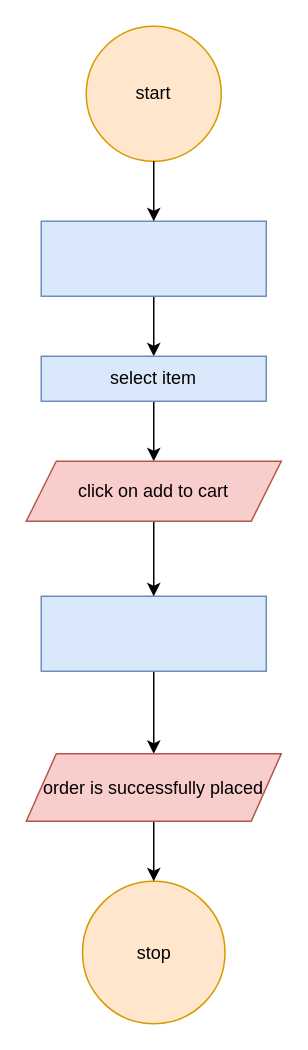
Some shapes in this 308 by 1050 pixel diagram are drawn without their labels. Each missing label, with the centre of its shape:
amount will be added total: the point at 153,633
list of options will be displayed: the point at 153,258
